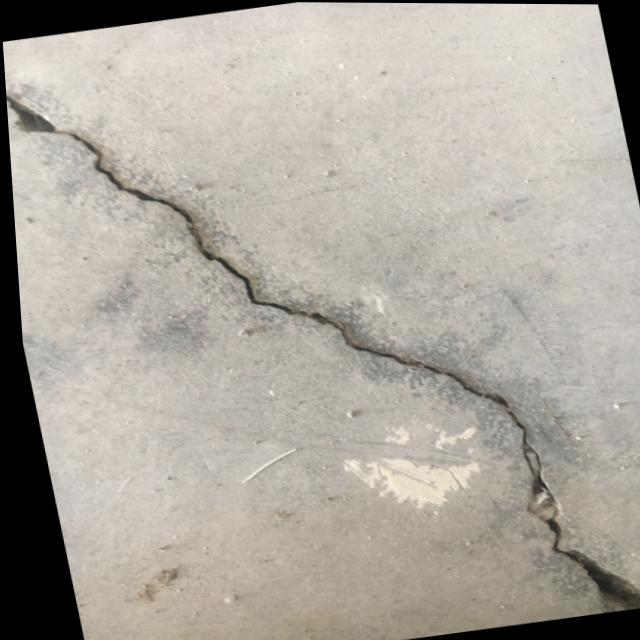Crack: (202, 198, 640, 640), (3, 50, 208, 284)
